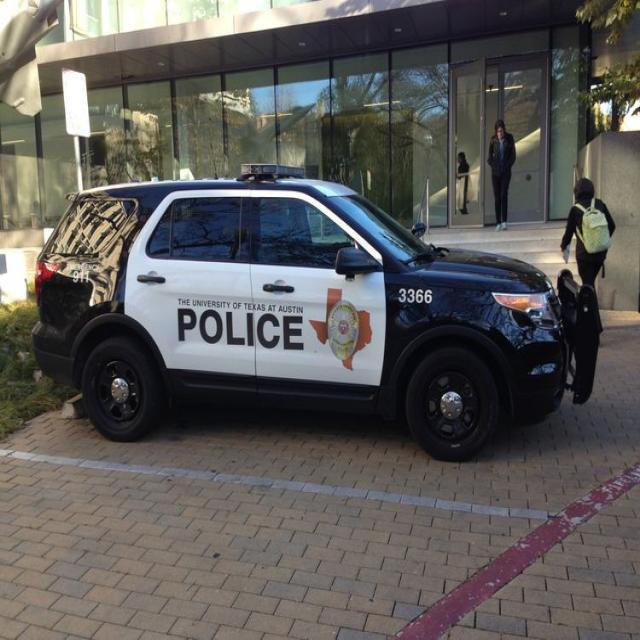fire_truck: (28, 174, 596, 462)
